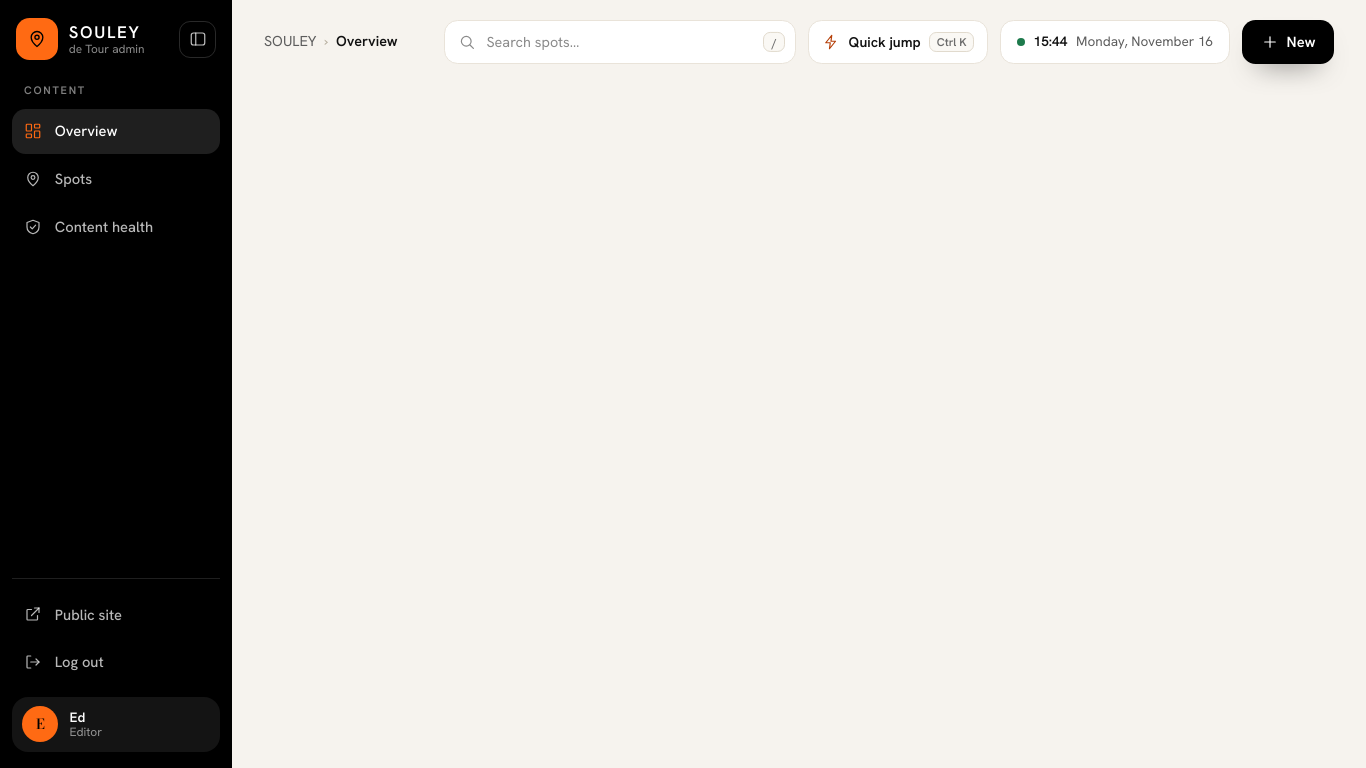
AdminLayout › the Quick jump button in the top bar opens it too
Click the button "Quick jump Ctrl K" at (898, 42), box x1=808 y1=20 x2=988 y2=64
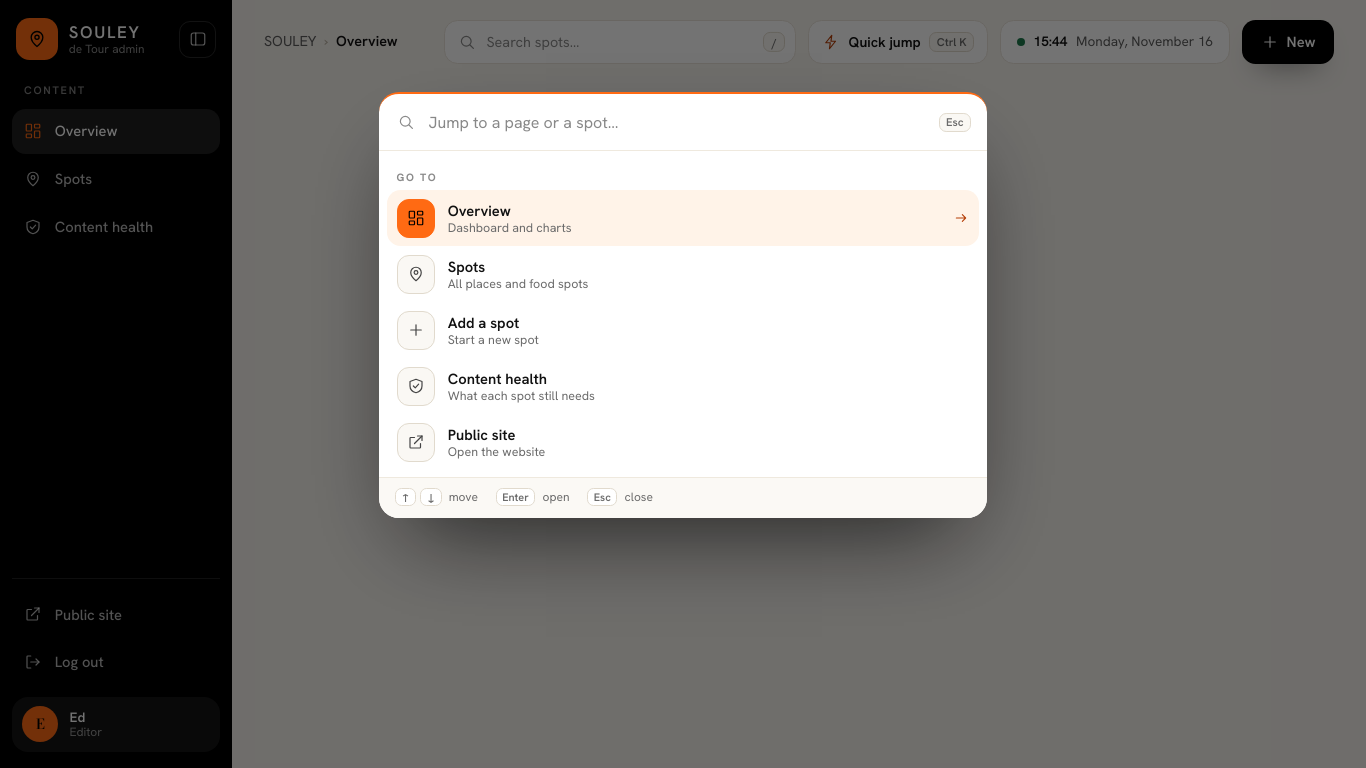
Now the dialog named "Quick jump" is shown, box x1=379 y1=92 x2=987 y2=518
